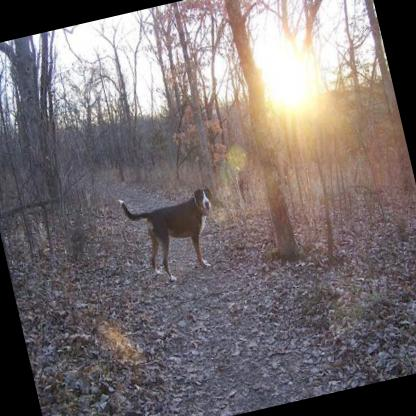Greater_Swiss_Mountain_dog: (117, 178, 228, 290)
